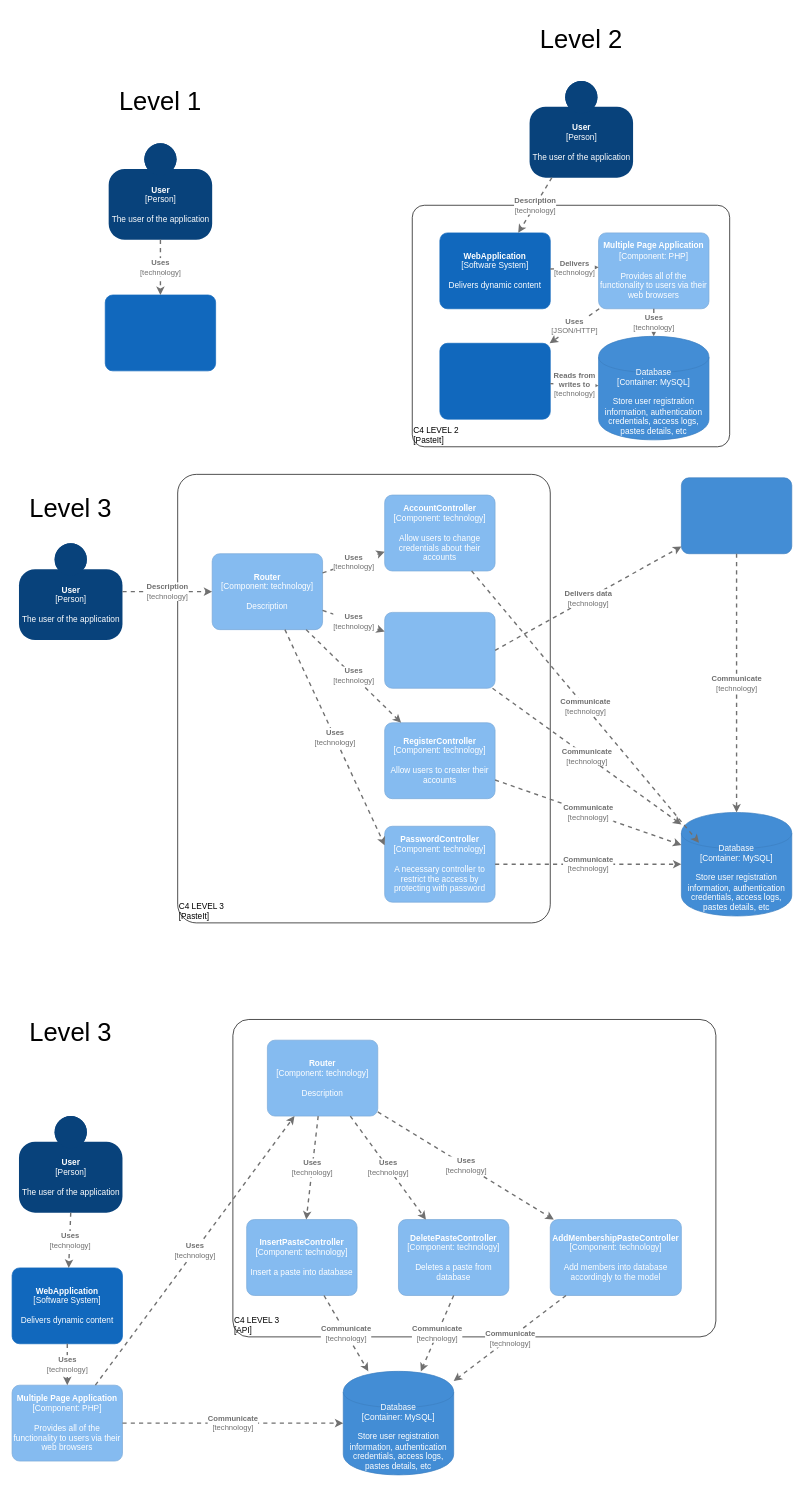
Image size: 804x1487. Some labels were removed from this diagram. Here are the shapes that lost their labels. From the top down, the centre of each, then its label:
At (160,332): "WebApplication [Software System] PasteIt".
At (494,381): "API [Software System] Provides functionality via JSON/HTTP API".
At (736,515): "API [Container: technology] Provides functionality via JSON/HTTP API".
At (439,650): "PreviewController [Component: technology] Show the actual paste".
